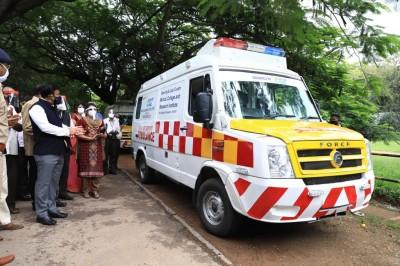Emergency-Vehicles: (132, 36, 372, 229)
